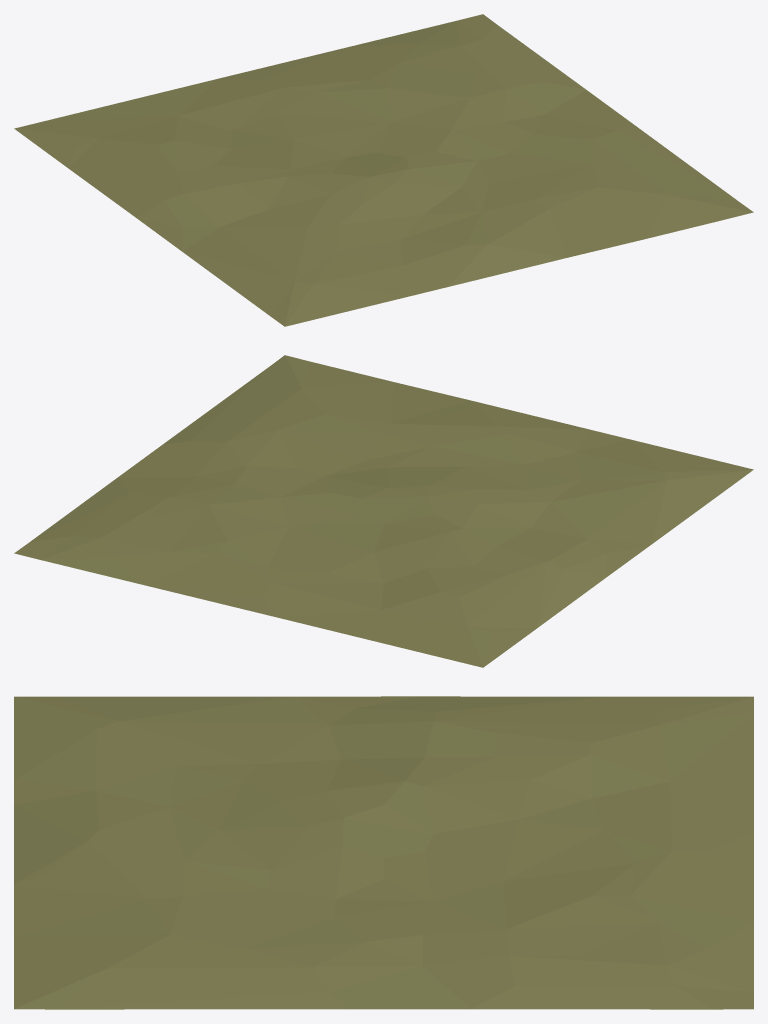
The model's file is fantasy_grass_1.fbx.
3 renders of one model, top to bottom at view 1: azimuth 30°, elevation 25°; view 2: azimuth 150°, elevation 25°; view 3: azimuth 270°, elevation 25°, orthographic. The views are drawn at different scales.
Parts seen in each view (by area): view 1: Plane.008; view 2: Plane.008; view 3: Plane.008.
Part boxes in pixels (x1,y1,x2,y2): Plane.008: [14, 14, 753, 326]; Plane.008: [14, 355, 753, 667]; Plane.008: [14, 696, 753, 1009].
Bounding box in the file's own units: 300 × 7.13 × 300.
